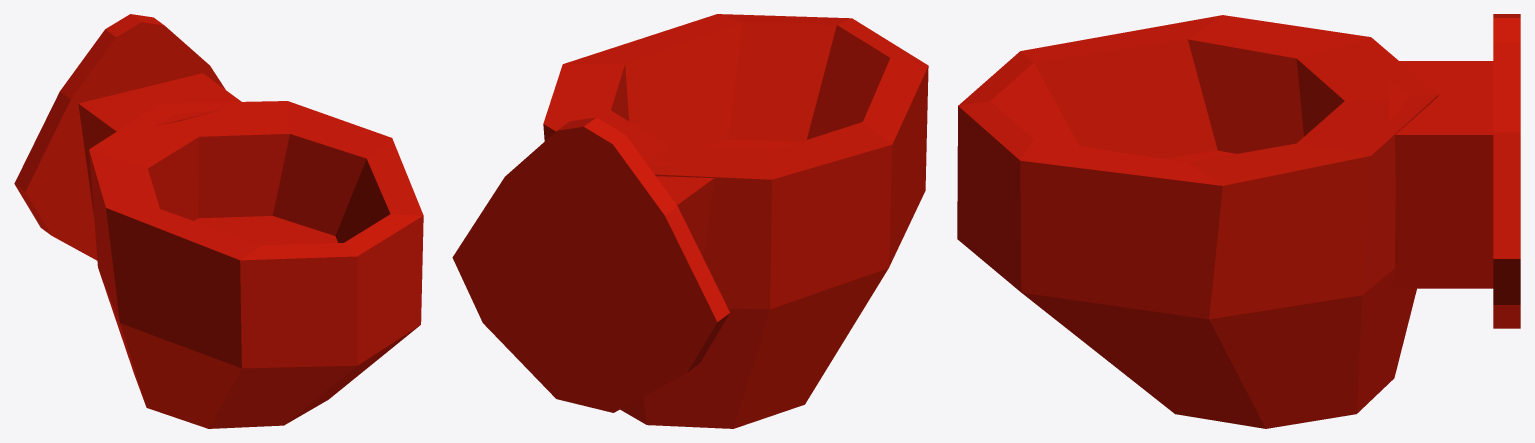
The model's file is UCX_stool_metal.fbx.
3 renders of one model, left to right at view 1: azimuth 30°, elevation 25°; view 2: azimuth 150°, elevation 25°; view 3: azimuth 270°, elevation 25°, orthographic. The views are drawn at different scales.
Visible parts, largest first — view 1: UCX_stool_metal; view 2: UCX_stool_metal; view 3: UCX_stool_metal.
Boxes of the visible parts, bbox=[...] form: UCX_stool_metal: bbox=[14, 14, 423, 428]; UCX_stool_metal: bbox=[452, 14, 928, 428]; UCX_stool_metal: bbox=[957, 14, 1520, 428].
Size of the model in its own units: 0.3271 by 0.3234 by 0.4559.
